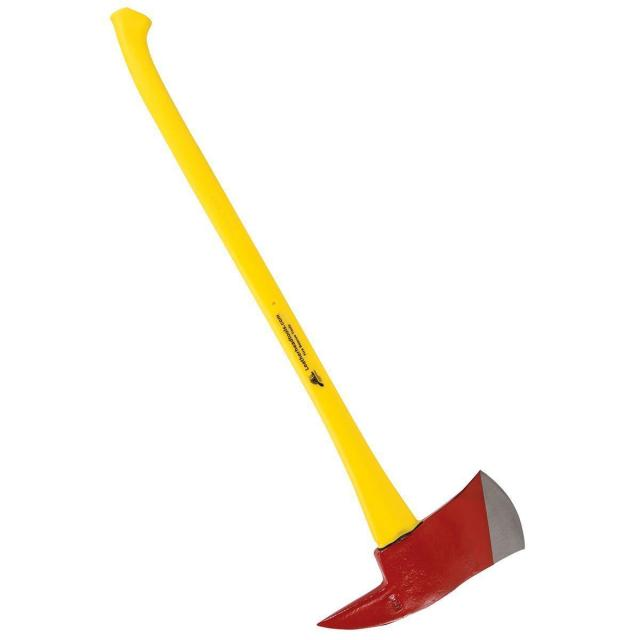Kapak: (89, 9, 530, 626)
